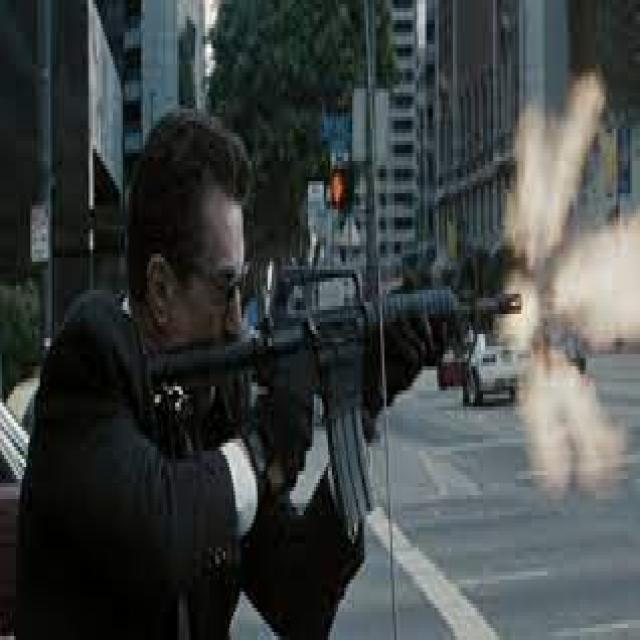weapons: (107, 242, 539, 538)
